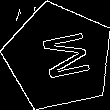M_W: (29, 29, 89, 85)
